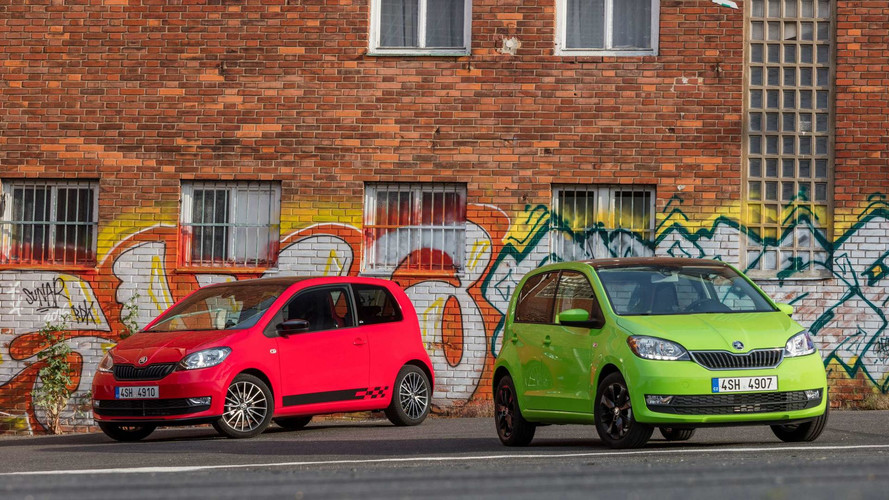car: (491, 259, 827, 443), (92, 273, 435, 441)
